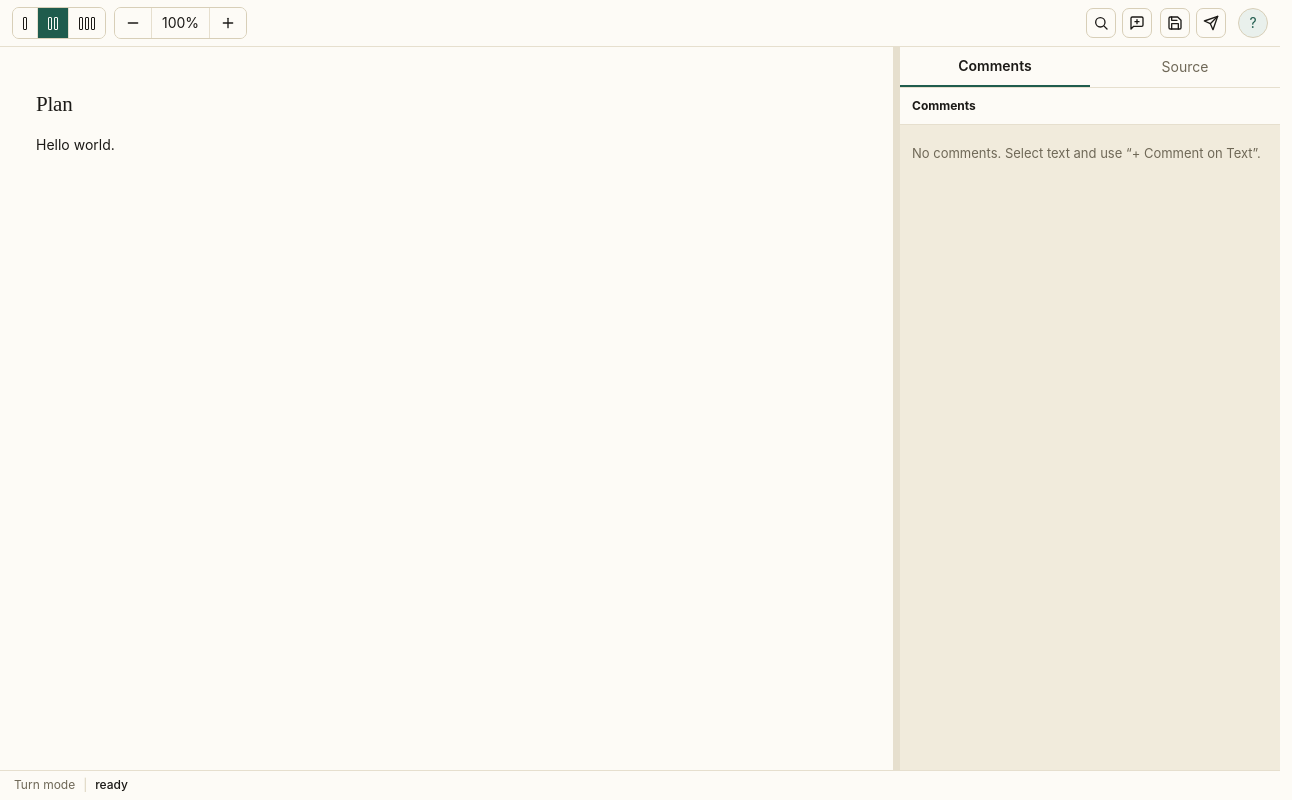
Test: new-doc actions › offers Create Doc / Move Text to New Doc only with a selection + a host that can create
Right-click the element with class "ap-rendered" at x=54, y=104, box [36,92,115,153]
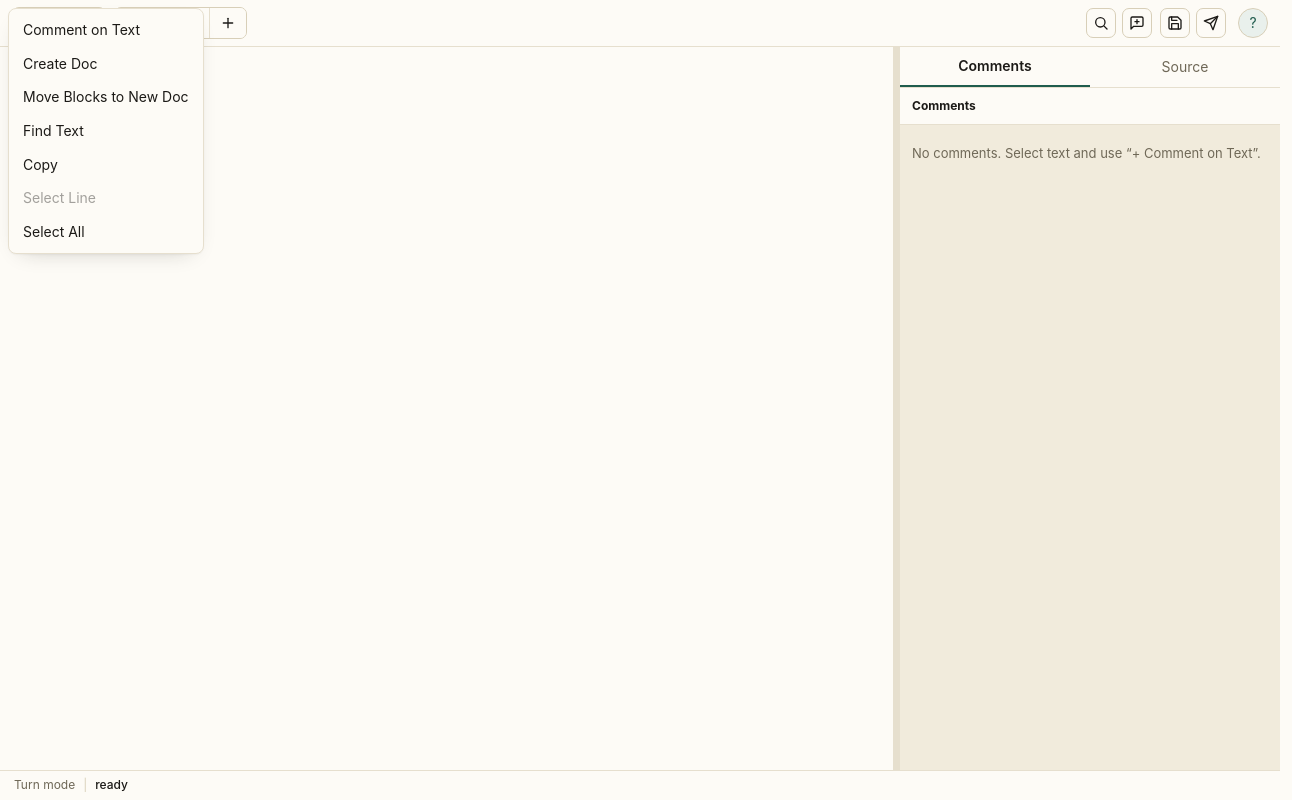
Now the menu item "Create Doc" is shown, box [13,47,198,80]
Now the menu item "Move Blocks to New Doc" is shown, box [13,80,198,114]
